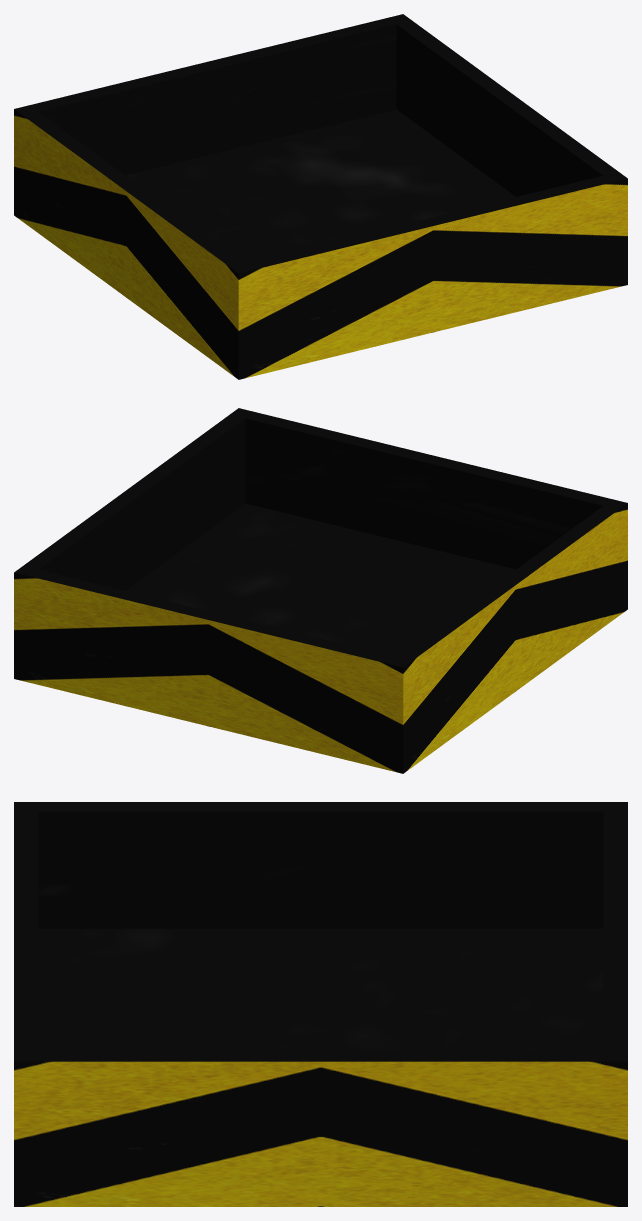
Rendered from bowl.fbx.
The picture shows the model from 3 angles, top to bottom: view 1: azimuth 30°, elevation 25°; view 2: azimuth 150°, elevation 25°; view 3: azimuth 270°, elevation 25°; orthographic projection. The views are drawn at different scales.
Visible parts, largest first — view 1: Cube; view 2: Cube; view 3: Cube.
Part boxes in pixels (x1,y1,x2,y2): Cube: (14,14,627,379); Cube: (14,408,627,773); Cube: (14,802,627,1206).
Bounding box in the file's own units: 200 × 52.25 × 200.
